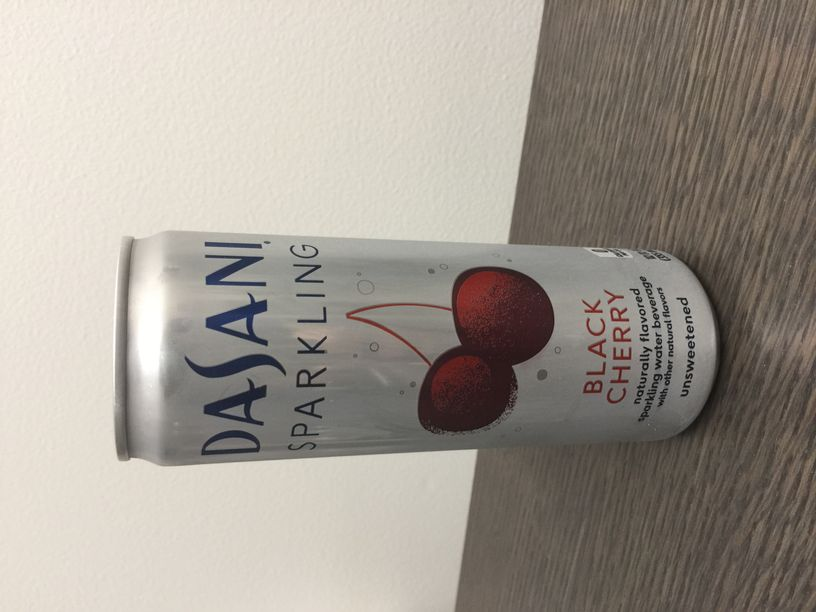blackcherry: (112, 229, 721, 467)
